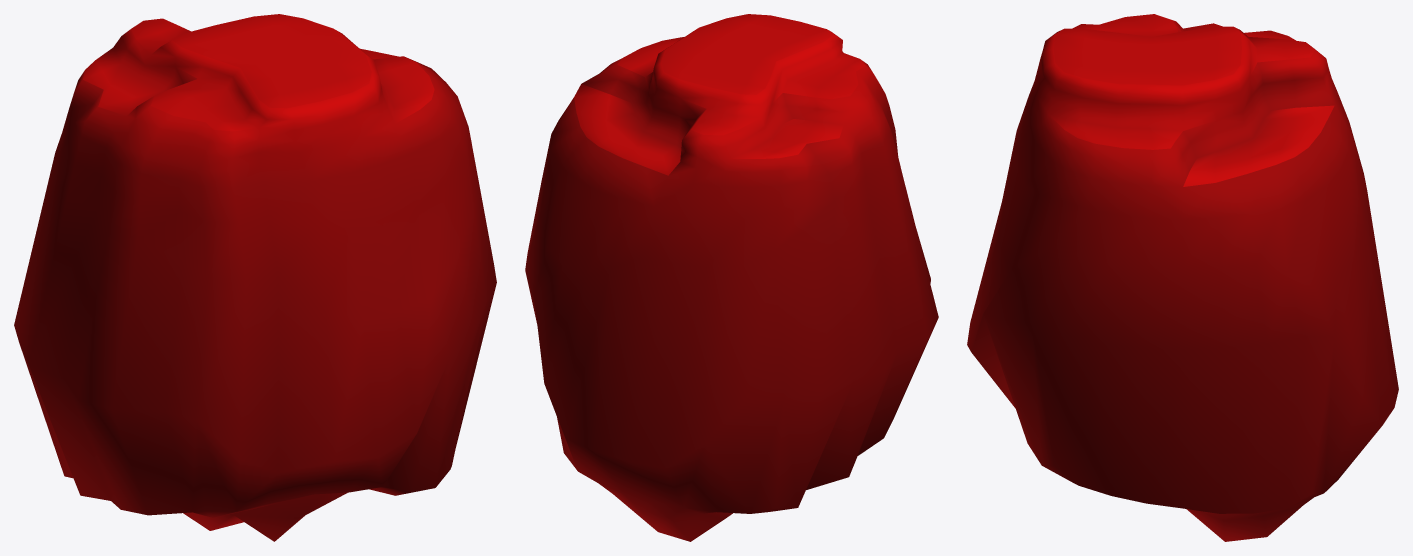
The model's file is geology-landforms-iceberg_v2.fbx.
3 views of the same model, side by side, from view 1: azimuth 30°, elevation 25°; view 2: azimuth 150°, elevation 25°; view 3: azimuth 270°, elevation 25° (orthographic). The views are drawn at different scales.
Parts seen in each view (by area): view 1: Iceberg_v2; view 2: Iceberg_v2; view 3: Iceberg_v2.
Part boxes in pixels (x1=…): Iceberg_v2: x1=14, y1=14, x2=496, y2=541; Iceberg_v2: x1=525, y1=14, x2=938, y2=541; Iceberg_v2: x1=967, y1=14, x2=1398, y2=541.
Bounding box in the file's own units: 7.5 × 9.16 × 7.6.
